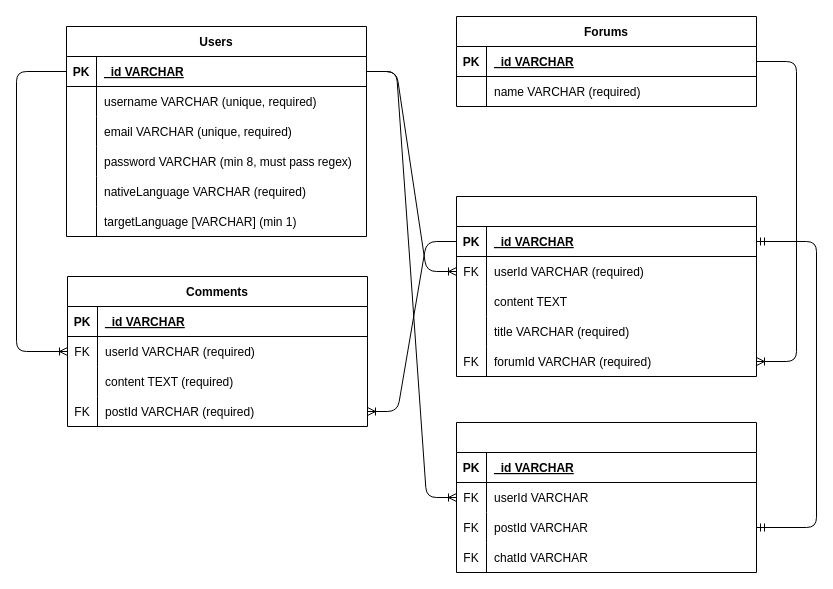
Image size: 833x589. Some labels were removed from this diagram. The shapes that lost their labels are listed below. From the top down, each one's box as (x1, y1, x2, y2) in pixels, then its label:
(456, 196, 756, 376): Posts
(456, 422, 756, 572): Images
